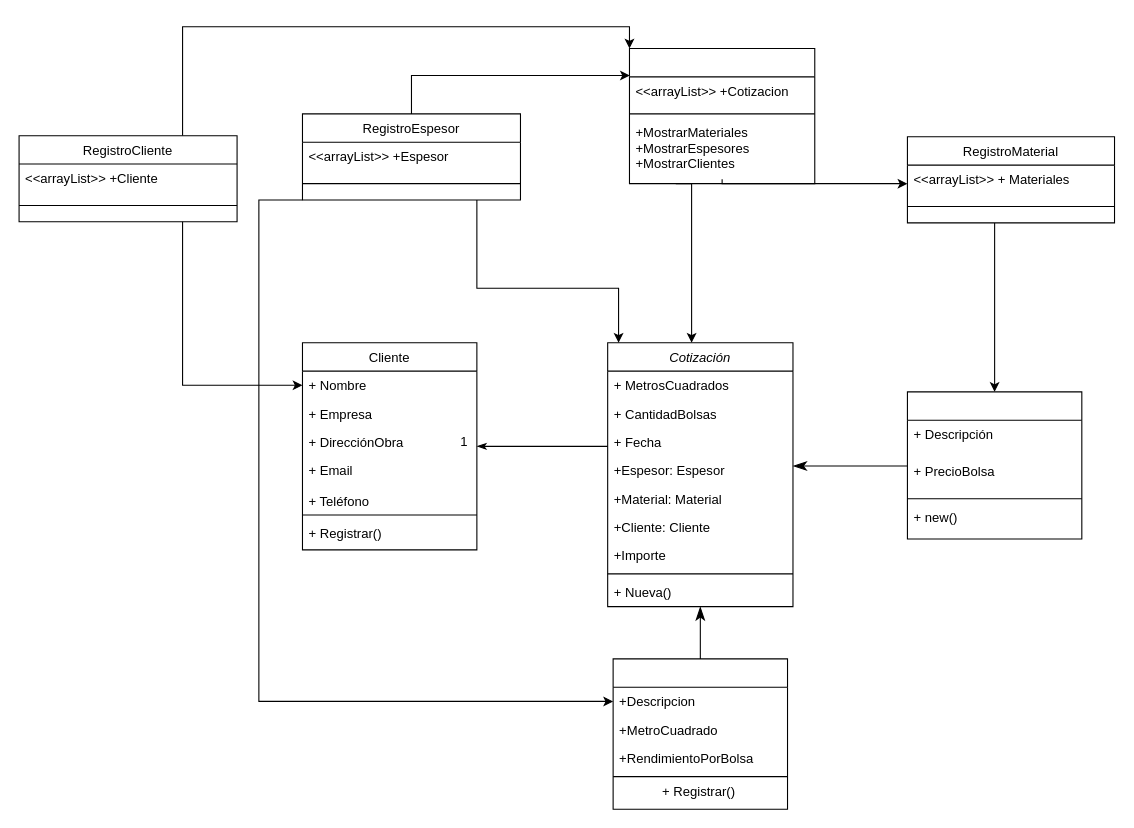
This 1134x828 diagram has some shape labels left out. The box of each missing label's shape, as (x1, y1, x2, y2) in pixels:
Espesor: (612, 658, 788, 809)
GestorCotización: (628, 47, 815, 184)
Material: (906, 391, 1082, 539)
